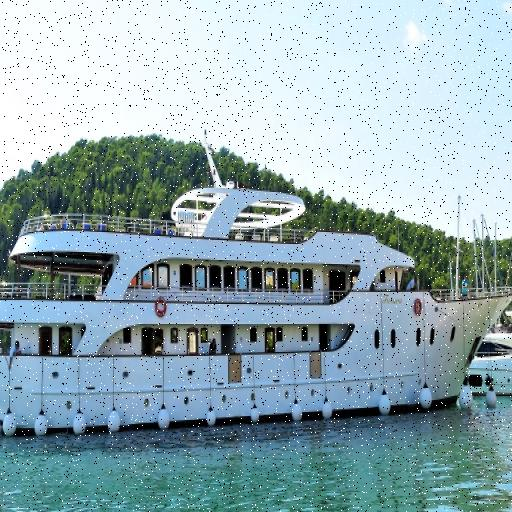cruises: (1, 149, 512, 444)
